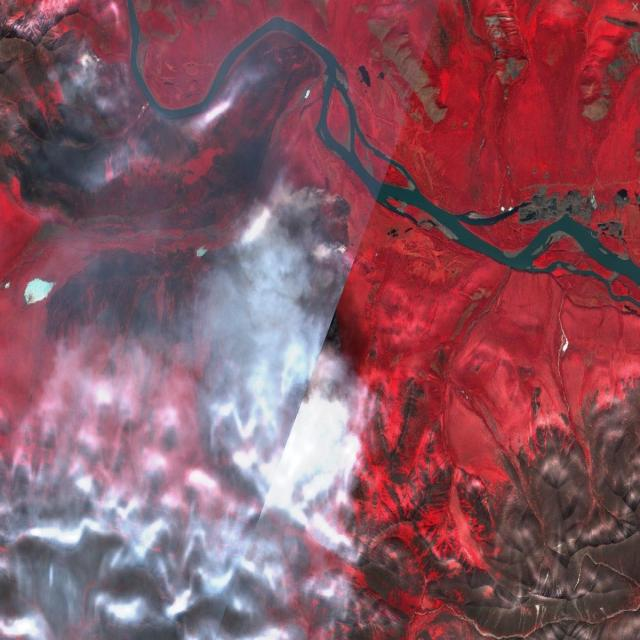fire: (241, 171, 355, 469), (74, 47, 125, 76)
